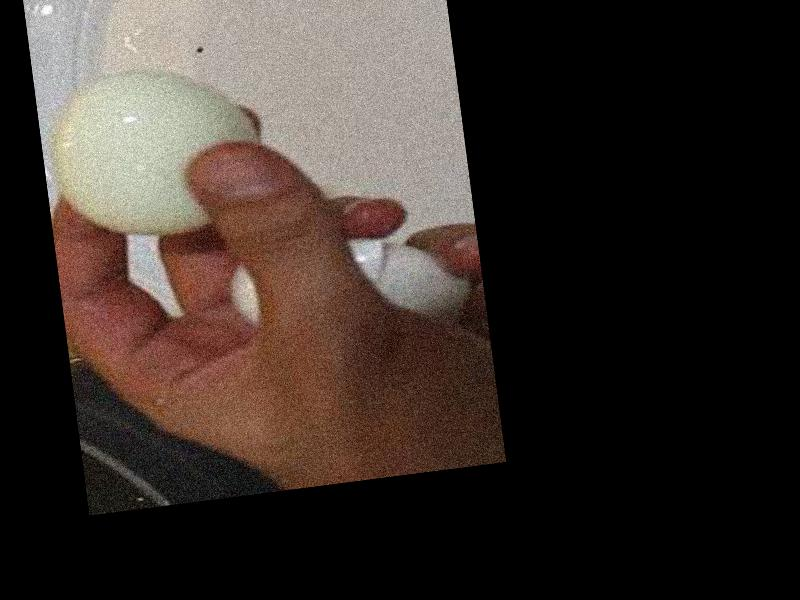Eggs: (37, 60, 271, 248)
